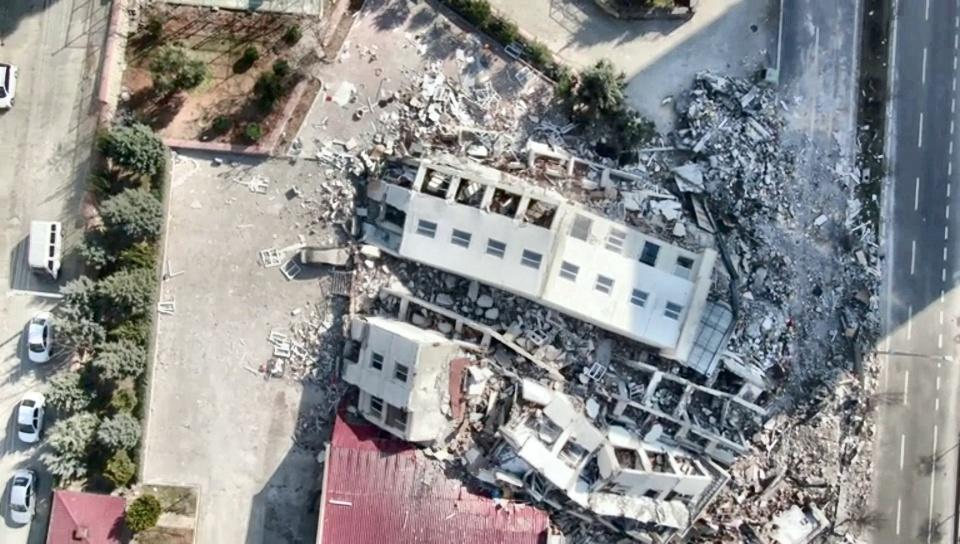kapali: (751, 21, 856, 543)
